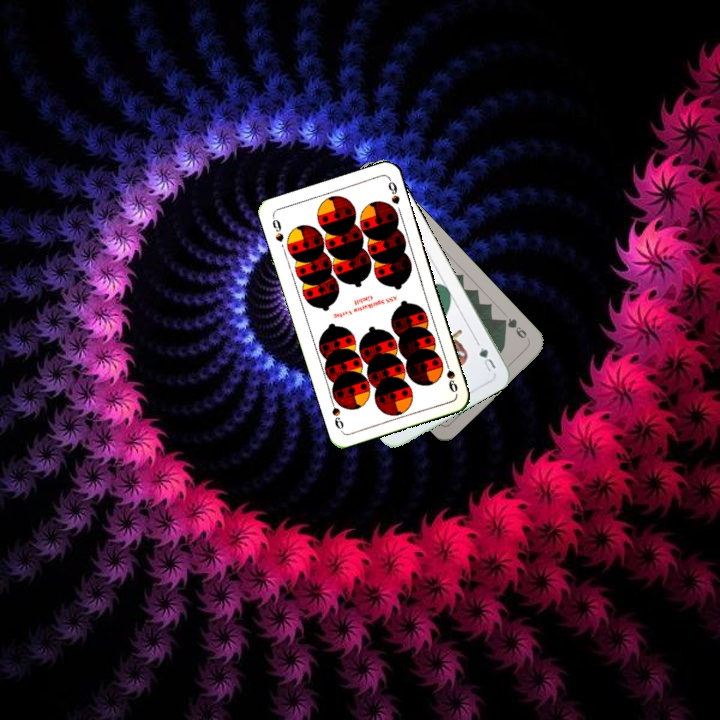G9: (497, 314, 532, 344)
GU: (475, 343, 499, 374)
S9: (441, 356, 460, 395), (268, 213, 286, 244)
